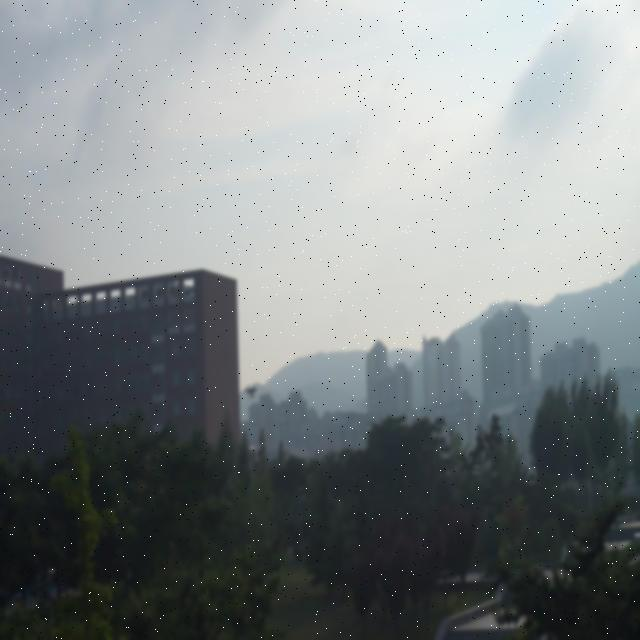UAV: (245, 384, 257, 400)
